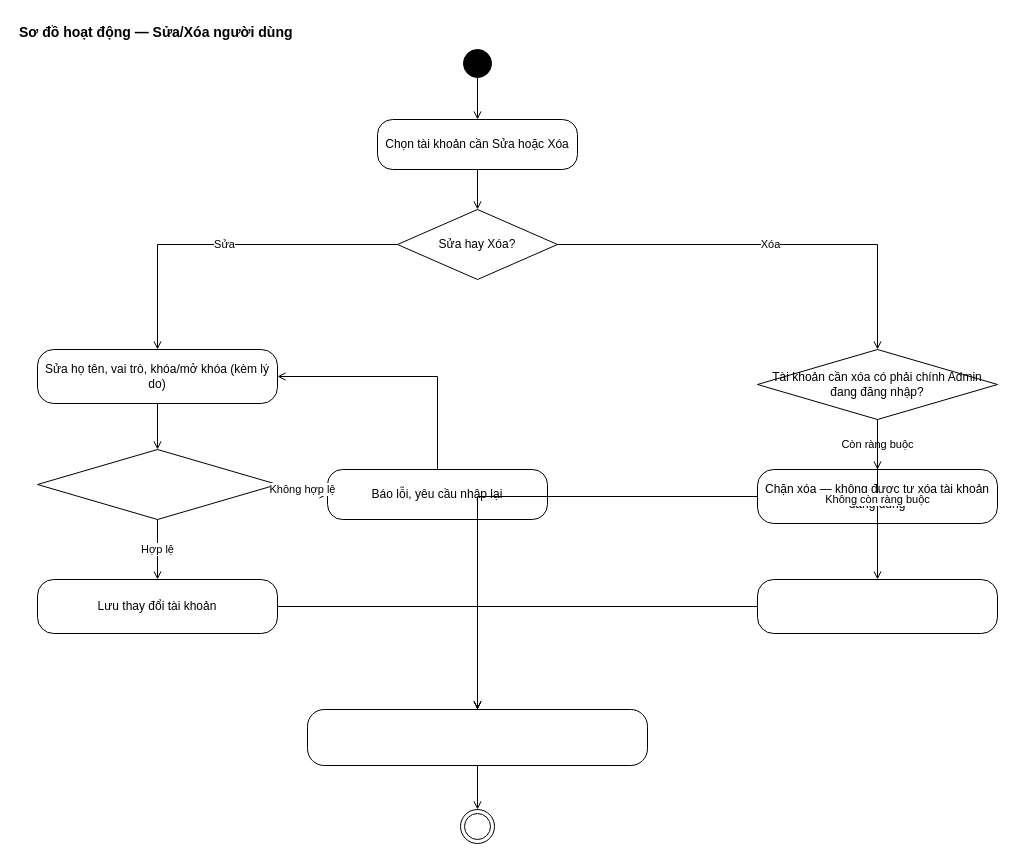
This 1015x861 diagram has some shape labels left out. Each missing label, with the box of its shape:
Dữ liệu hợp lệ?: (36, 448, 278, 520)
Hiển thị kết quả cho người dùng: (306, 708, 648, 766)
Xóa tài khoản người dùng: (756, 578, 998, 634)
